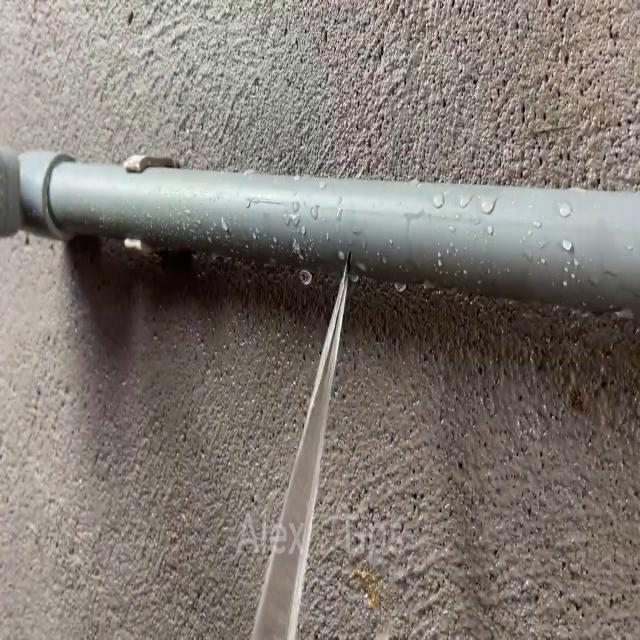leak: (249, 252, 349, 640)
